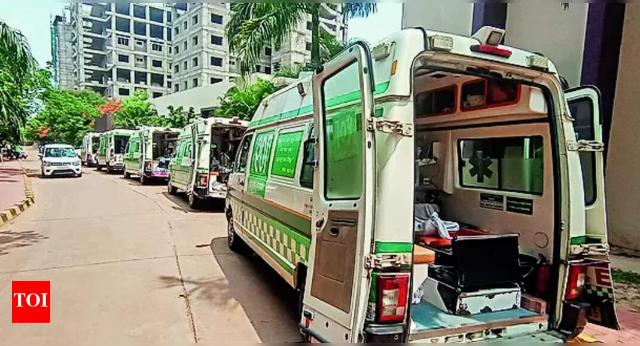ambulance: (225, 21, 626, 344), (167, 114, 251, 213), (121, 121, 184, 184), (96, 121, 134, 176)
